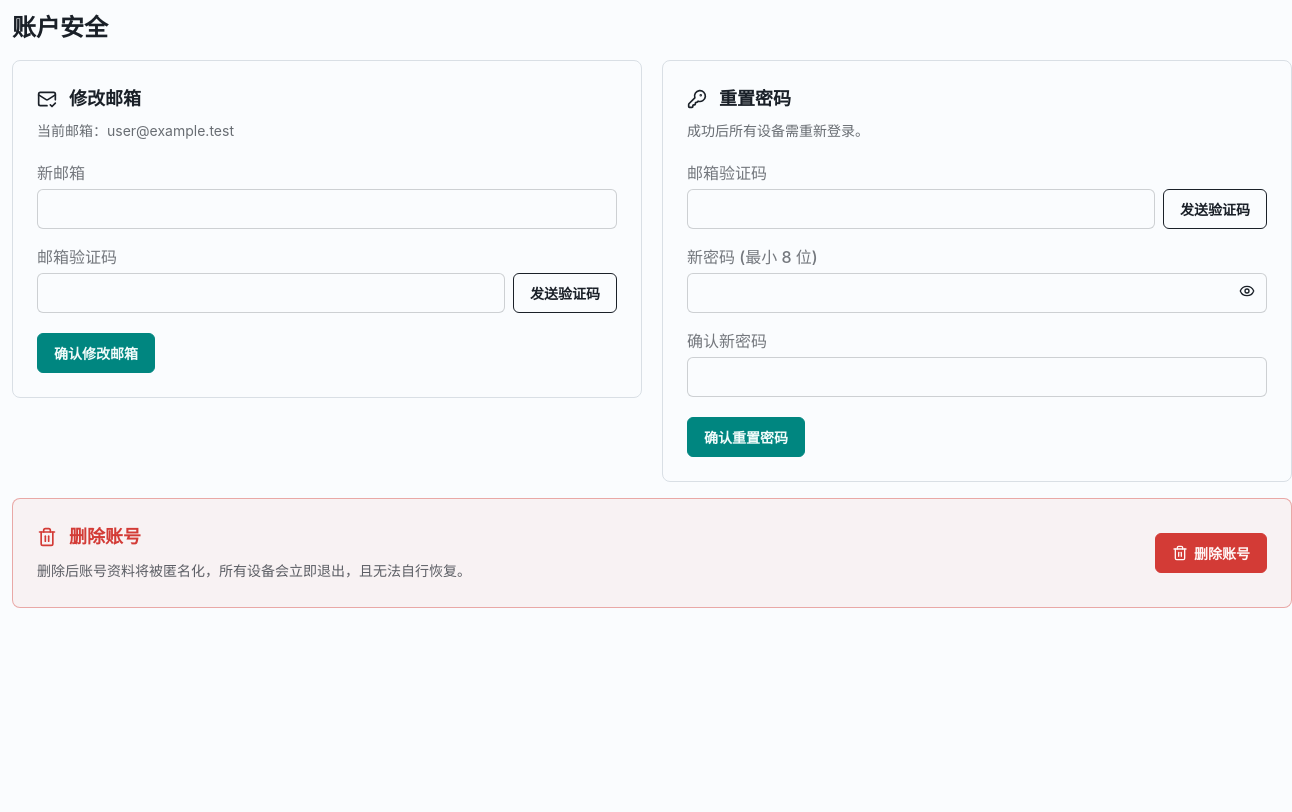
AccountSecurityPanel › renders server email validation beside the new-email control
The width and height of the screenshot is (1292, 812).
Type "new@example.test" into the field labelled "新邮箱" at (327, 209), box [37, 189, 617, 229]
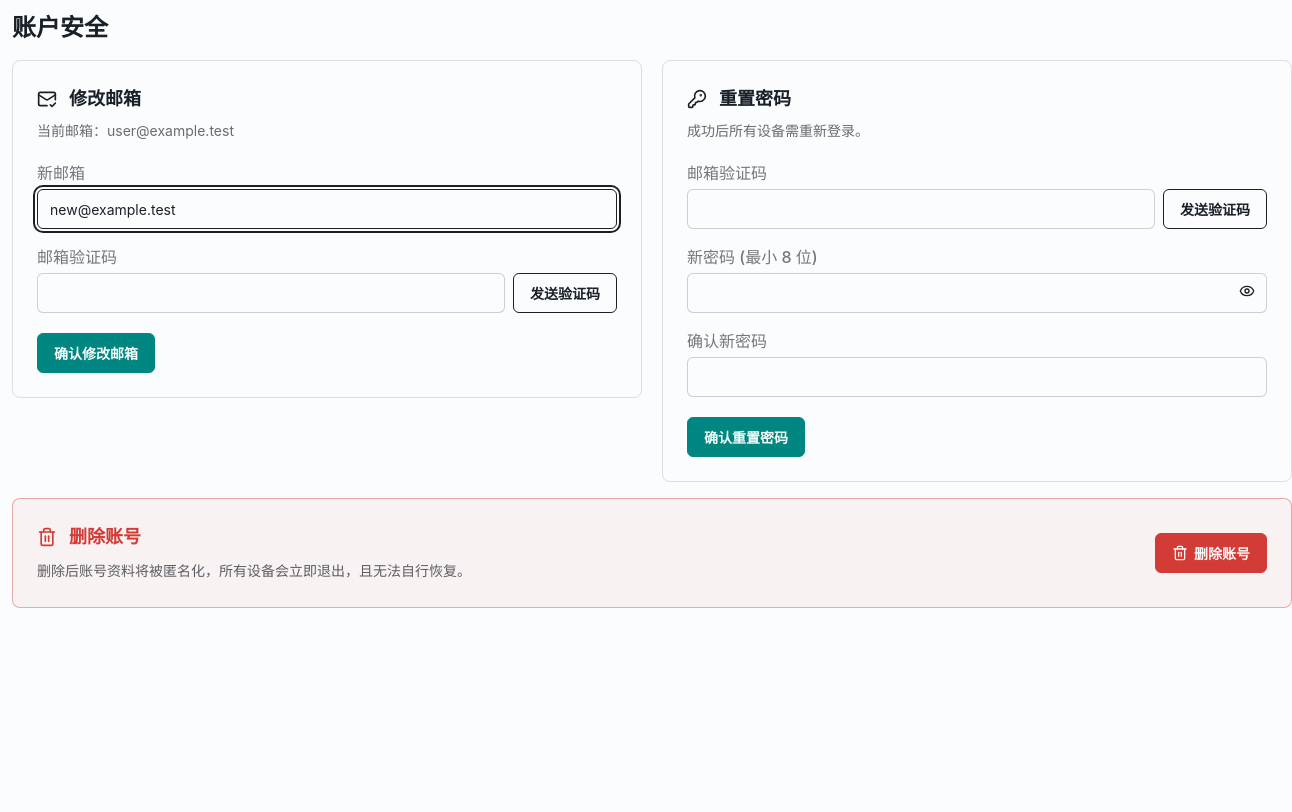
Type "123456" into the field labelled "邮箱验证码" below "新邮箱" at (271, 293), box [37, 273, 505, 313]
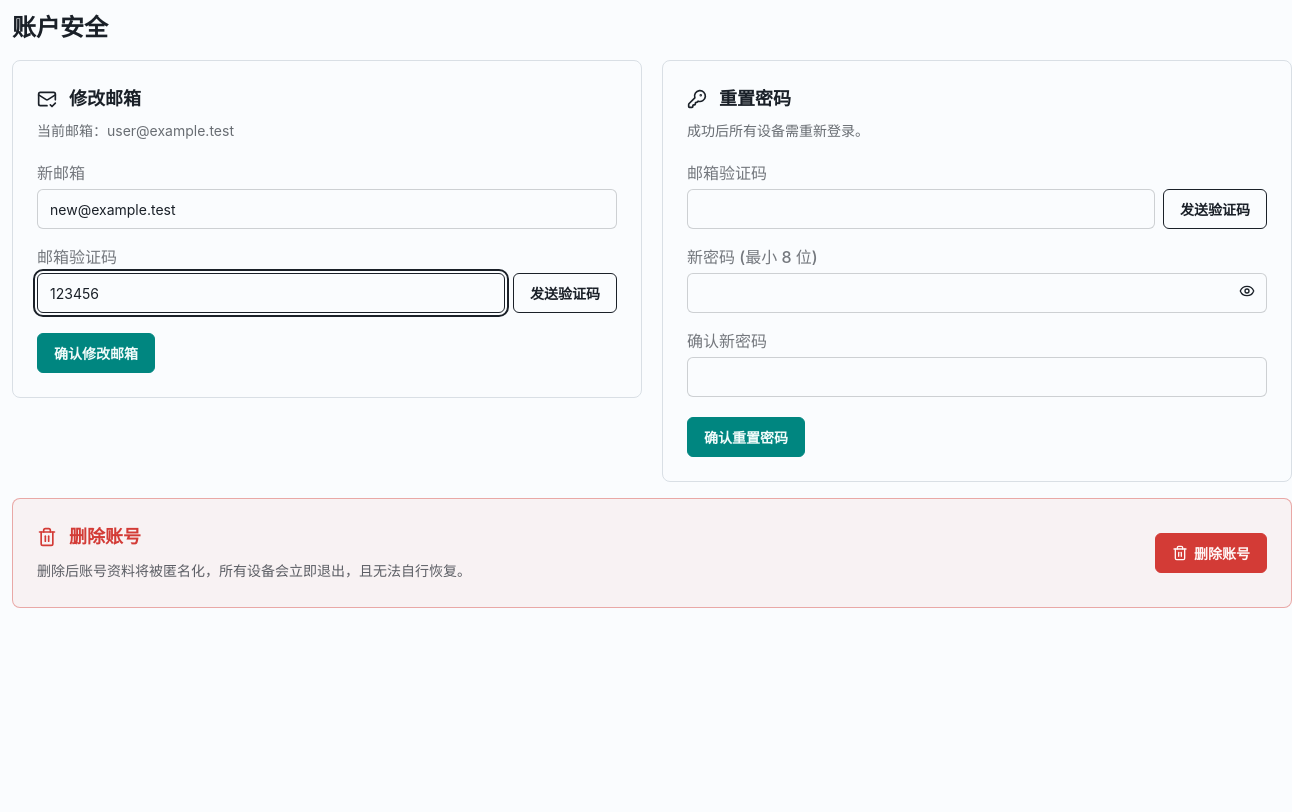
Click the button "确认修改邮箱" at (96, 353), box [37, 333, 155, 373]
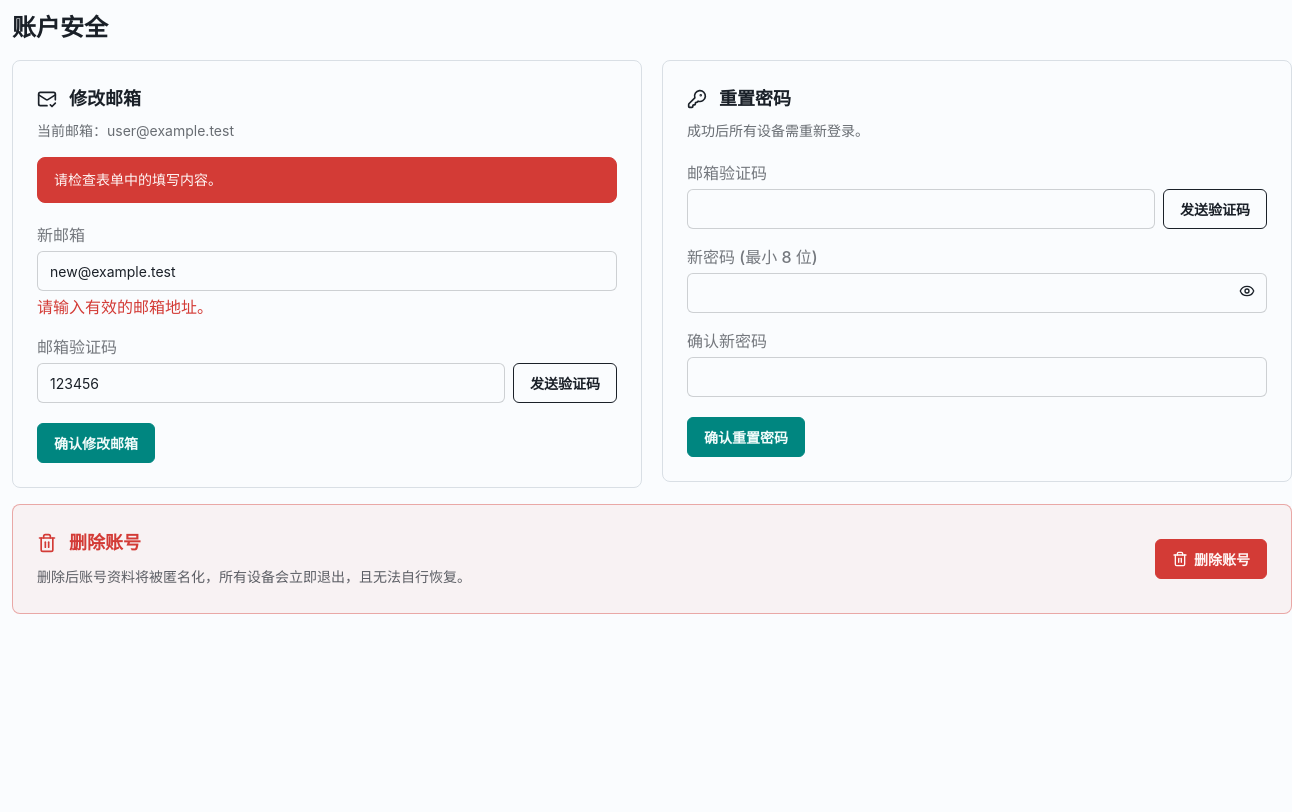
expect the text "请输入有效的邮箱地址。" is shown: met, box [37, 291, 213, 319]
